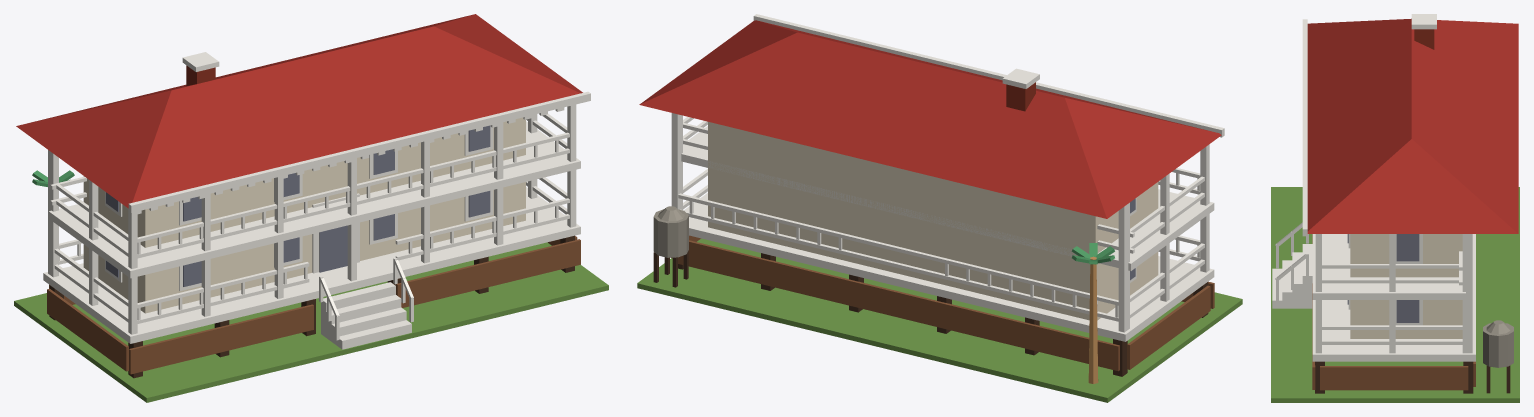
The model's file is house-2x1-2f-third-queenslander-a.glb.
The picture shows the model from 3 angles, left to right: view 1: azimuth 30°, elevation 25°; view 2: azimuth 150°, elevation 25°; view 3: azimuth 270°, elevation 25°; orthographic projection. The views are drawn at different scales.
Visible parts, largest first — view 1: house-2x1-2f-third-queenslander-a; view 2: house-2x1-2f-third-queenslander-a; view 3: house-2x1-2f-third-queenslander-a.
Part boxes in pixels (<box>): house-2x1-2f-third-queenslander-a: <box>14,14,608,402</box>; house-2x1-2f-third-queenslander-a: <box>637,14,1242,402</box>; house-2x1-2f-third-queenslander-a: <box>1271,14,1519,402</box>.
Bounding box in the file's own units: 1.99 × 1.03 × 0.99.
Materials: 1 (1 with a texture image).
